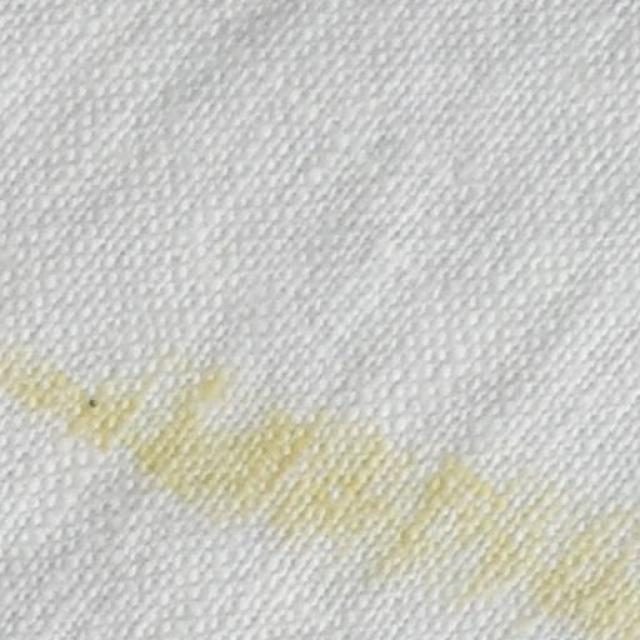Stain: (0, 358, 639, 639)
